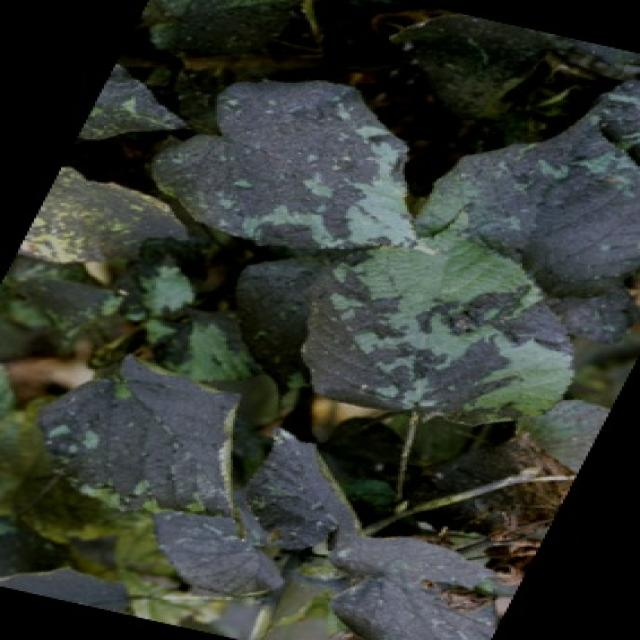Sooty Mold: (0, 0, 638, 639)
